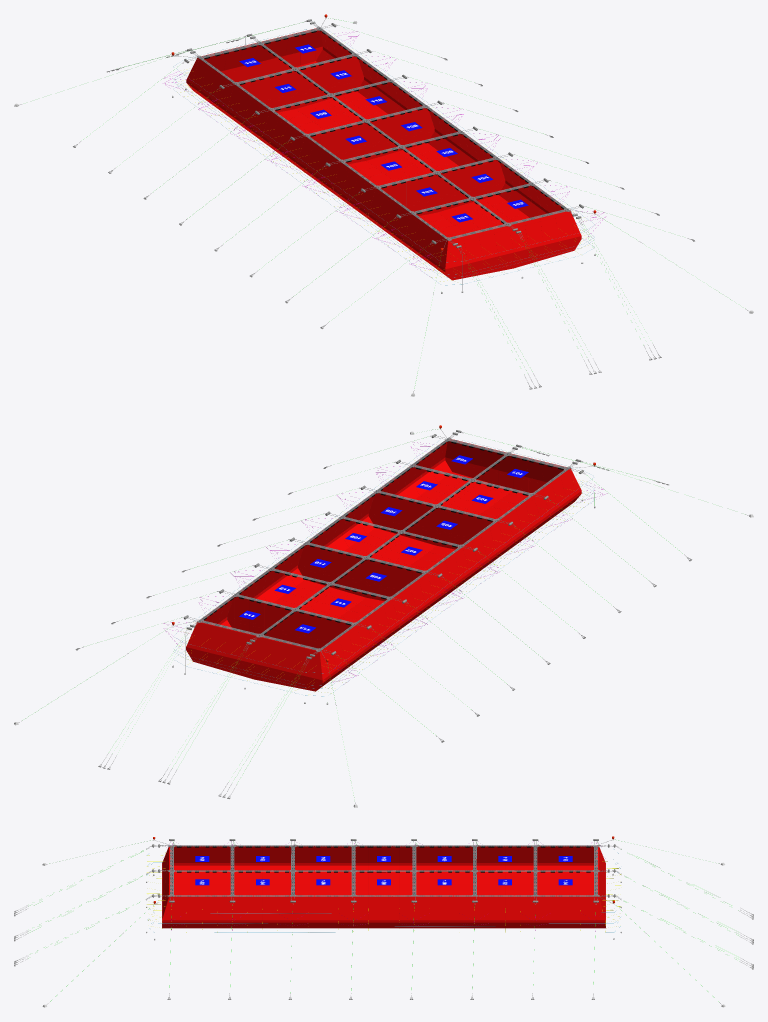
3 views of the same model, one above another, from view 1: azimuth 30°, elevation 25°; view 2: azimuth 150°, elevation 25°; view 3: azimuth 270°, elevation 25° (orthographic). The views are drawn at different scales.
Visible parts, largest first — view 1: Frontal_Red, Central_001, Central_005, Central_003, GALVANIZADO_1, Frontal_Red_001, Separador_001, Separador, Separador_002, Flotador, Central_006, Central_004 (+2 smaller); view 2: Frontal_Red_001, Central, Central_004, Central_002, GALVANIZADO_1, Frontal_Red, Separador_001, Separador, Separador_002, Flotador, Central_006, Central_003 (+2 smaller); view 3: Central_003, Central_006, Central_002, Central_004, Central_005, Central_001, Central, GALVANIZADO_1, Flotador, Frontal_Red, Frontal_Red_001, Lineas_lobera (+1 smaller).
Boxes of the visible parts, x1=… form: Frontal_Red: x1=439, y1=211, x2=581, y2=280; Central_001: x1=369, y1=162, x2=540, y2=249; Central_005: x1=227, y1=59, x2=399, y2=145; Central_003: x1=298, y1=110, x2=469, y2=197; GALVANIZADO_1: x1=73, y1=19, x2=694, y2=389; Frontal_Red_001: x1=186, y1=28, x2=328, y2=93; Separador_001: x1=310, y1=107, x2=434, y2=164; Separador: x1=380, y1=159, x2=505, y2=215; Separador_002: x1=239, y1=56, x2=363, y2=112; Flotador: x1=200, y1=28, x2=568, y2=239; Central_006: x1=192, y1=30, x2=384, y2=136; Central_004: x1=262, y1=82, x2=423, y2=172; Frontal_Red_001: x1=186, y1=622, x2=328, y2=691; Central: x1=404, y1=441, x2=575, y2=531; Central_004: x1=262, y1=545, x2=434, y2=634; Central_002: x1=333, y1=493, x2=505, y2=582; GALVANIZADO_1: x1=75, y1=430, x2=691, y2=798; Frontal_Red: x1=439, y1=439, x2=581, y2=504; Separador_001: x1=298, y1=545, x2=423, y2=601; Separador: x1=368, y1=492, x2=493, y2=549; Separador_002: x1=227, y1=596, x2=352, y2=649; Flotador: x1=199, y1=439, x2=568, y2=650; Central_006: x1=204, y1=544, x2=386, y2=686; Central_003: x1=310, y1=519, x2=469, y2=608; Central_003: x1=353, y1=845, x2=414, y2=928; Central_006: x1=381, y1=845, x2=595, y2=928; Central_002: x1=293, y1=845, x2=353, y2=928; Central_004: x1=414, y1=845, x2=474, y2=928; Central_005: x1=475, y1=845, x2=535, y2=928; Central_001: x1=232, y1=845, x2=292, y2=928; Central: x1=172, y1=845, x2=232, y2=928; GALVANIZADO_1: x1=14, y1=839, x2=753, y2=999; Flotador: x1=170, y1=845, x2=597, y2=896; Frontal_Red: x1=162, y1=847, x2=171, y2=928; Frontal_Red_001: x1=596, y1=847, x2=605, y2=928; Lineas_lobera: x1=147, y1=849, x2=620, y2=932.
Size of the model in its own units: 263 by 56.91 by 531.
26 materials, 17 textured.
